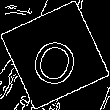O_N: (26, 23, 84, 87)
